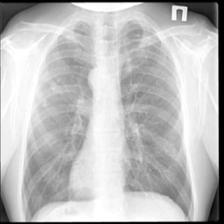tuberculosis: (17, 13, 196, 222)
